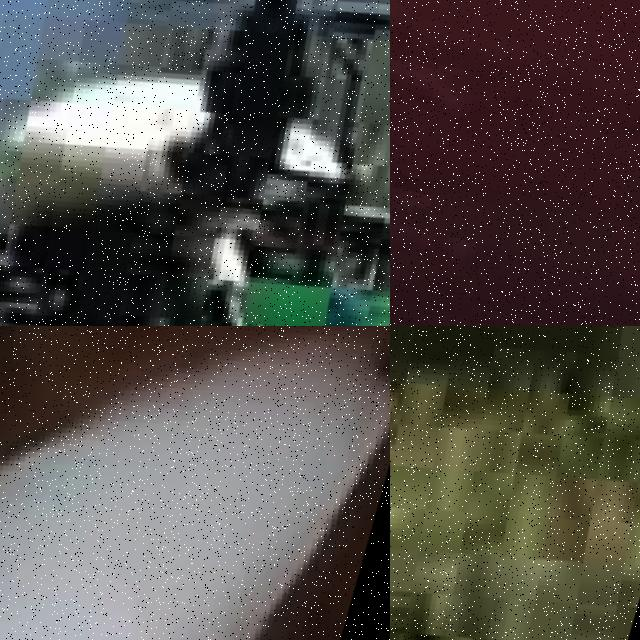0: (0, 0, 390, 326), (390, 326, 640, 640)
drone: (0, 326, 390, 640)
